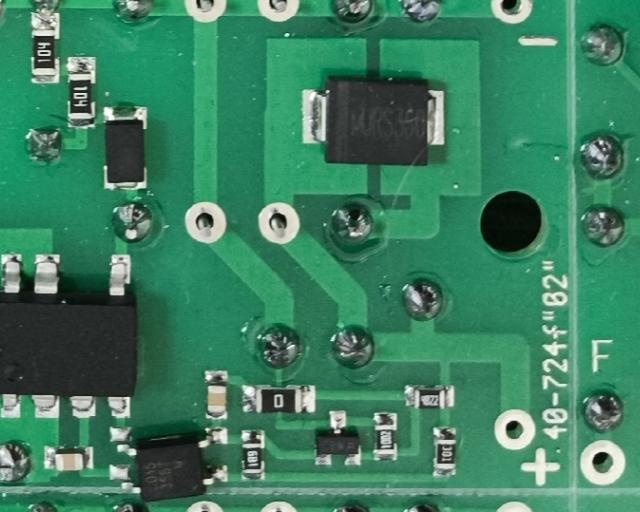chip-capacitor: (41, 444, 95, 471), (204, 367, 228, 420)
chip-resistor: (239, 381, 317, 415), (64, 53, 97, 132), (28, 11, 60, 85), (238, 426, 266, 483), (401, 380, 455, 409), (371, 410, 400, 464), (430, 424, 458, 479)
diode: (298, 74, 446, 167), (100, 104, 148, 192)
ic: (0, 251, 139, 421), (116, 425, 229, 502)
transistor: (311, 409, 362, 468)
